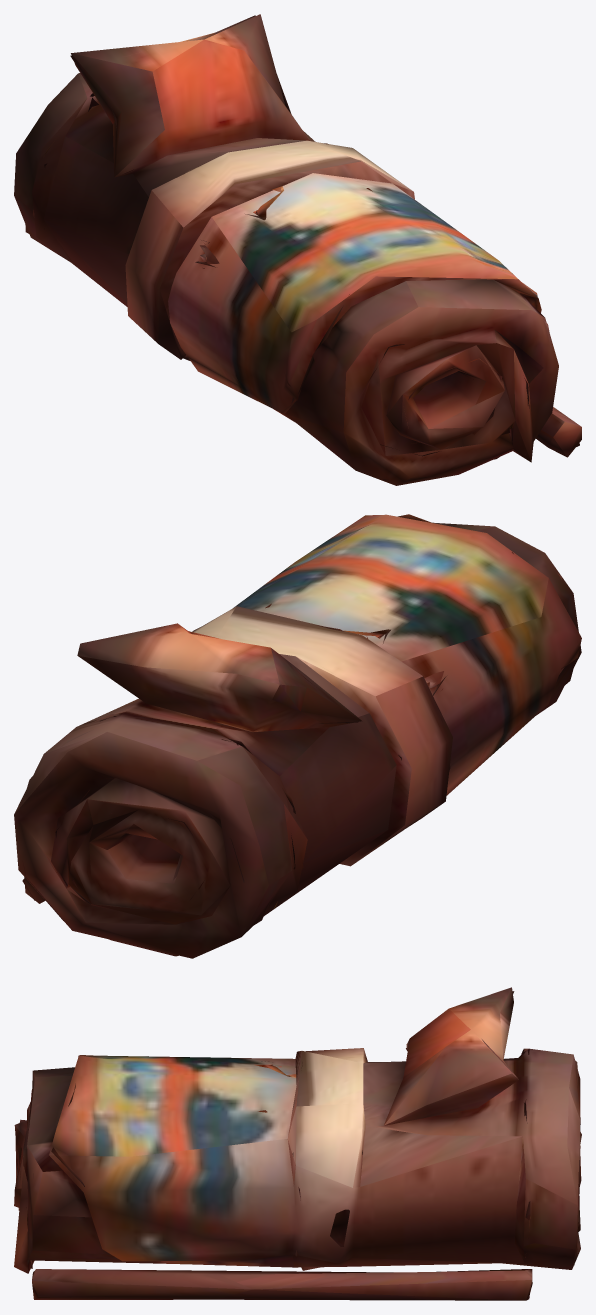
File: sz-bedroll.glb
3 renders of one model, top to bottom at view 1: azimuth 30°, elevation 25°; view 2: azimuth 150°, elevation 25°; view 3: azimuth 270°, elevation 25°, orthographic. The views are drawn at different scales.
Visible parts, largest first — view 1: geometry_0; view 2: geometry_0; view 3: geometry_0.
Part boxes in pixels (x1,y1,x2,y2): geometry_0: [14, 14, 581, 485]; geometry_0: [14, 514, 581, 958]; geometry_0: [14, 987, 581, 1300].
Size of the model in its own units: 0.4818 by 0.4354 by 1.
1 material, 1 textured.
